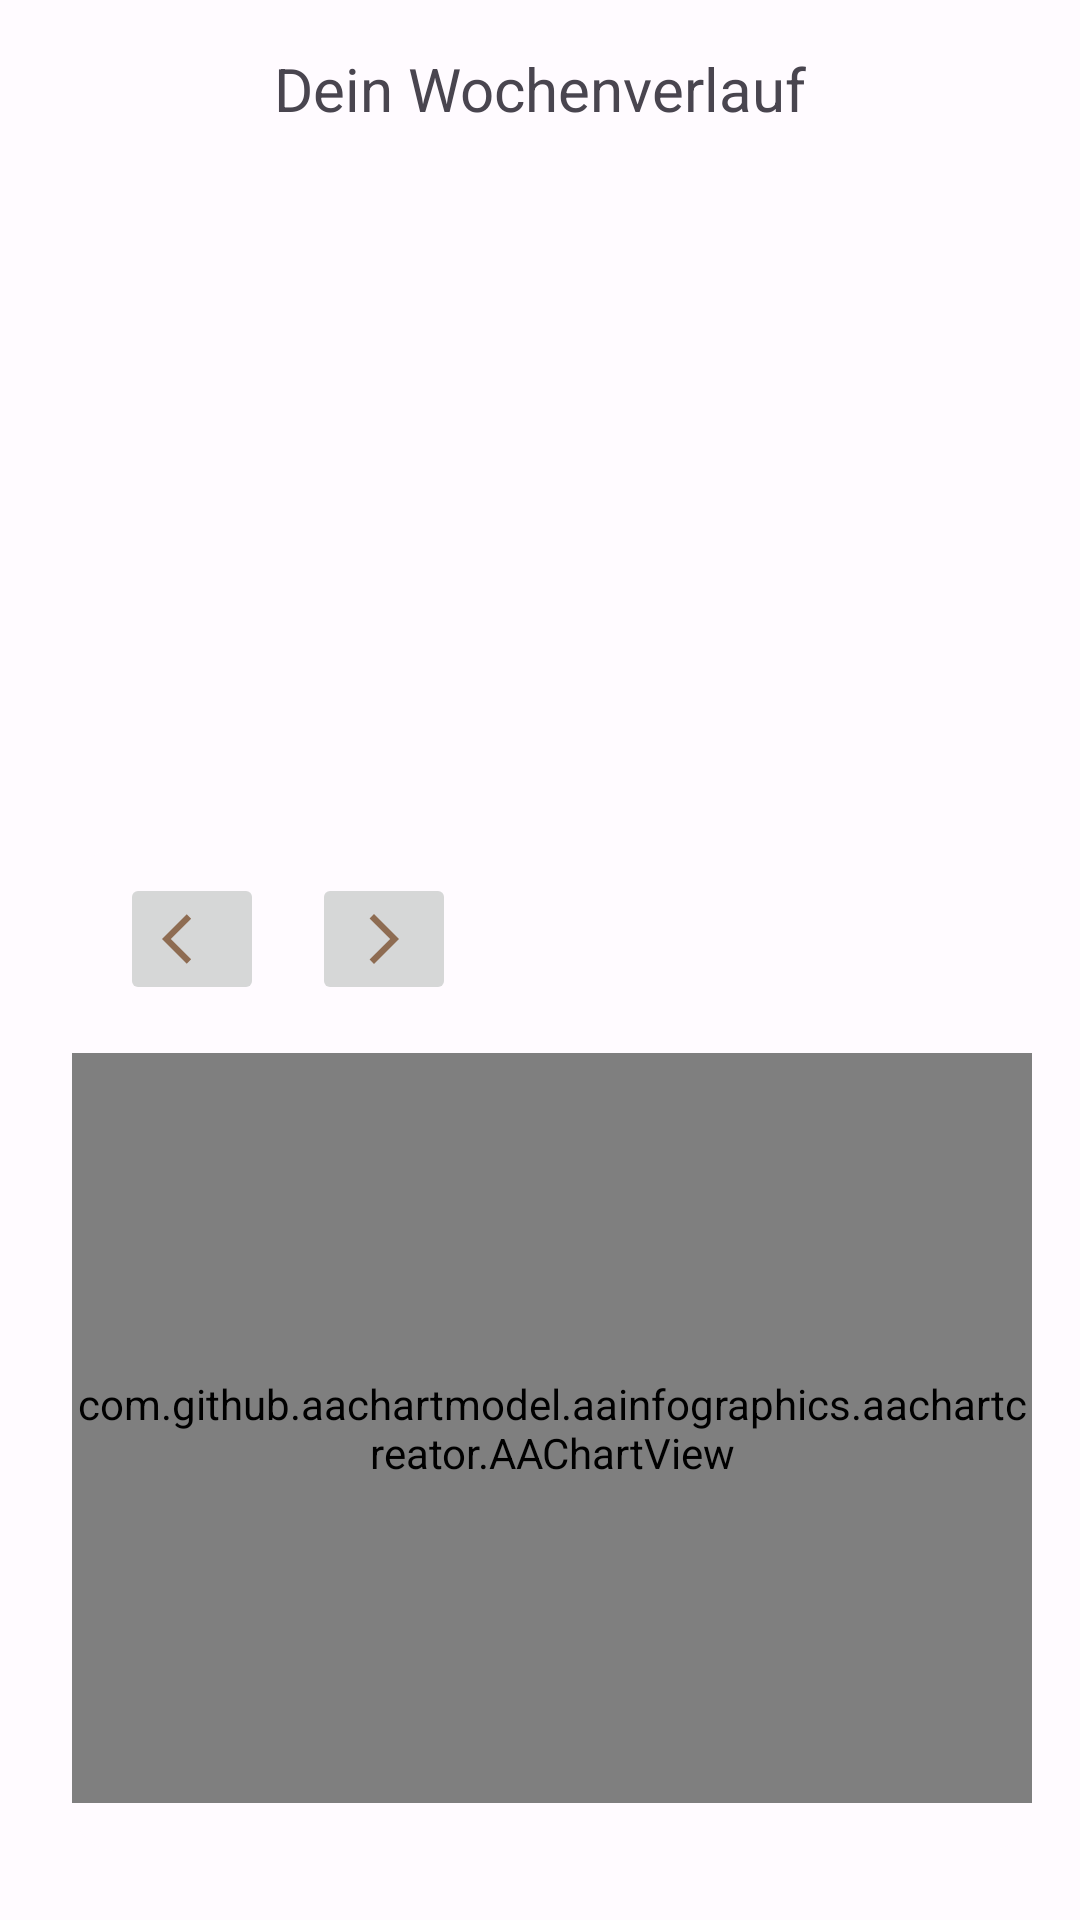

Where to tap for icons on this 1080 x 1920 app screen, as [x,y]:
after: [384,939]
before: [192,939]
